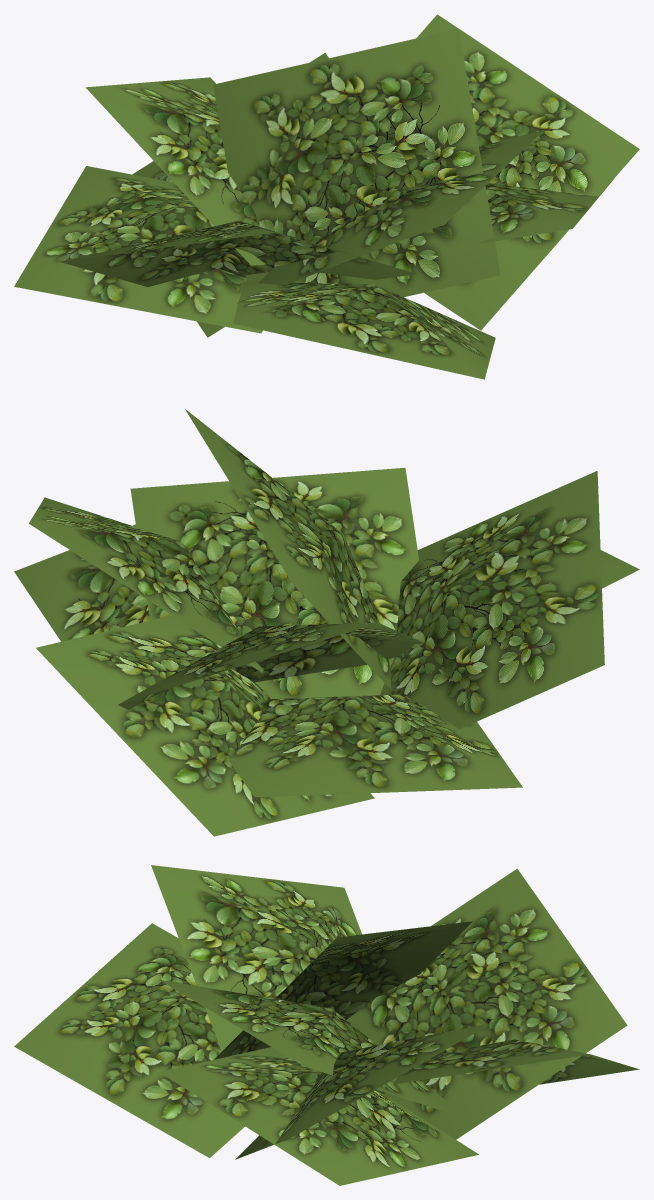
The model's file is ground_cover1.fbx.
The picture shows the model from 3 angles, top to bottom: view 1: azimuth 30°, elevation 25°; view 2: azimuth 150°, elevation 25°; view 3: azimuth 270°, elevation 25°; orthographic projection. The views are drawn at different scales.
Visible parts, largest first — view 1: polySurface1; view 2: polySurface1; view 3: polySurface1.
Part boxes in pixels (x1,y1,x2,y2): polySurface1: (14, 14, 639, 379); polySurface1: (14, 409, 639, 836); polySurface1: (14, 865, 639, 1185).
Bounding box in the file's own units: 135 × 66.09 × 141.
